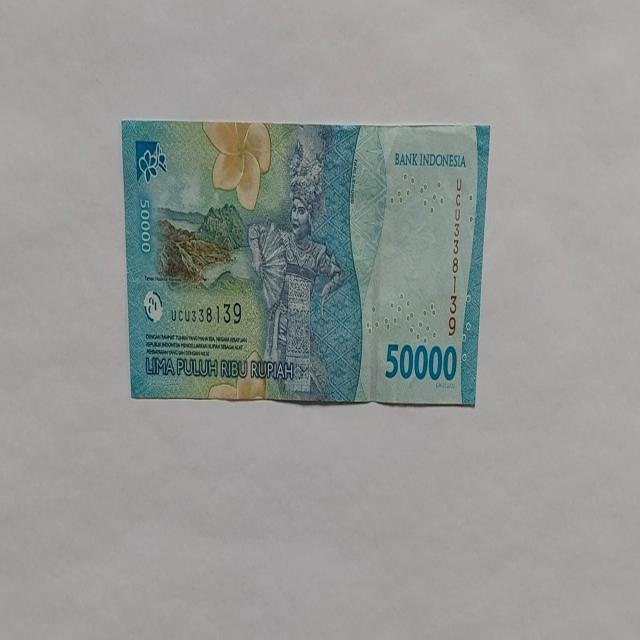lima puluh ribu rupiah: (122, 120, 490, 406), (246, 135, 346, 400)
